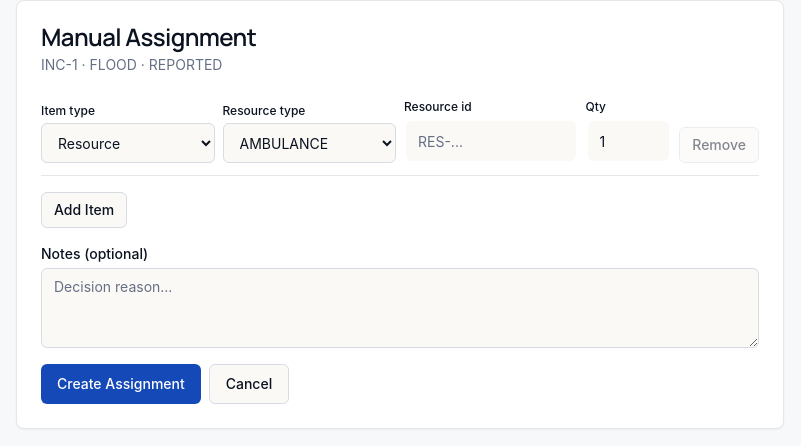
Test: AllocateReviewPage — item form variants › hides Resource type and shows Qty for a Shelter item
Expected: the heading "Manual Assignment" is shown, [41,20,256,53]
Select "Shelter" in the dropdown with test id "kind-0" at (128, 143), box [41,123,214,163]
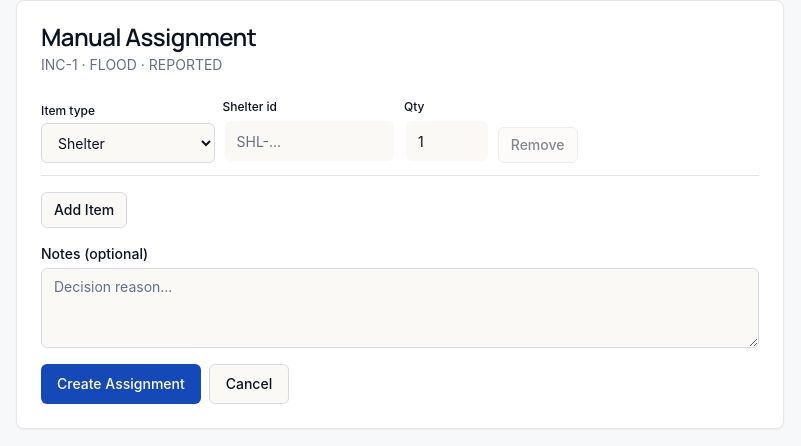
Expected: the number field with test id "qty-0" is shown, [406,121,488,161]
Result: the text "Resource type" is gone
Result: the text "Shelter id" is shown at [222,99,277,114]
